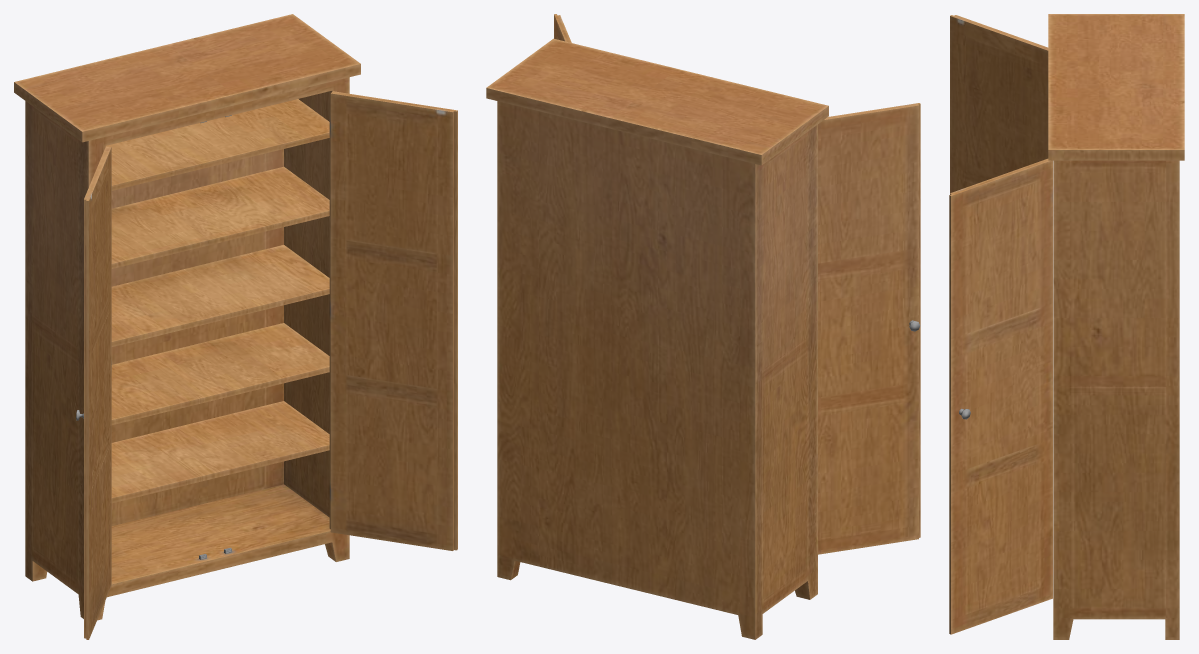
File: cupboard.glb
3 renders of one model, left to right at view 1: azimuth 30°, elevation 25°; view 2: azimuth 150°, elevation 25°; view 3: azimuth 270°, elevation 25°, orthographic.
Visible parts, largest first — view 1: Cupboard_L_01, Cupboard_L_01_door_L, Cupboard_L_01_door_R; view 2: Cupboard_L_01, Cupboard_L_01_door_R; view 3: Cupboard_L_01, Cupboard_L_01_door_L, Cupboard_L_01_door_R.
Part boxes in pixels (box(x1,y1,x2,y2)): Cupboard_L_01: box(14, 14, 360, 620); Cupboard_L_01_door_L: box(330, 91, 457, 550); Cupboard_L_01_door_R: box(76, 146, 111, 639); Cupboard_L_01: box(486, 38, 828, 639); Cupboard_L_01_door_R: box(818, 103, 920, 554); Cupboard_L_01: box(1048, 14, 1184, 639); Cupboard_L_01_door_L: box(949, 158, 1052, 634); Cupboard_L_01_door_R: box(950, 15, 1048, 193).
Bounding box in the file's own units: 1.52 × 1.9 × 0.8199.
Materials: 1 (1 with a texture image).
